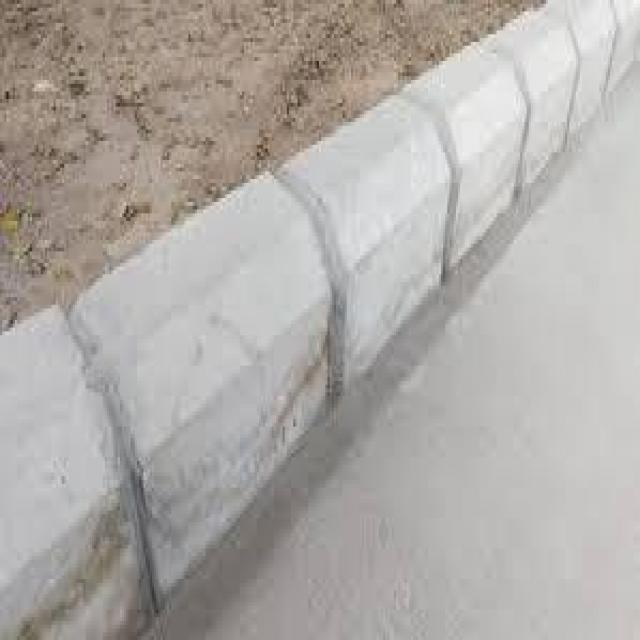curb: (7, 188, 290, 638), (217, 66, 450, 428), (436, 1, 634, 228)
